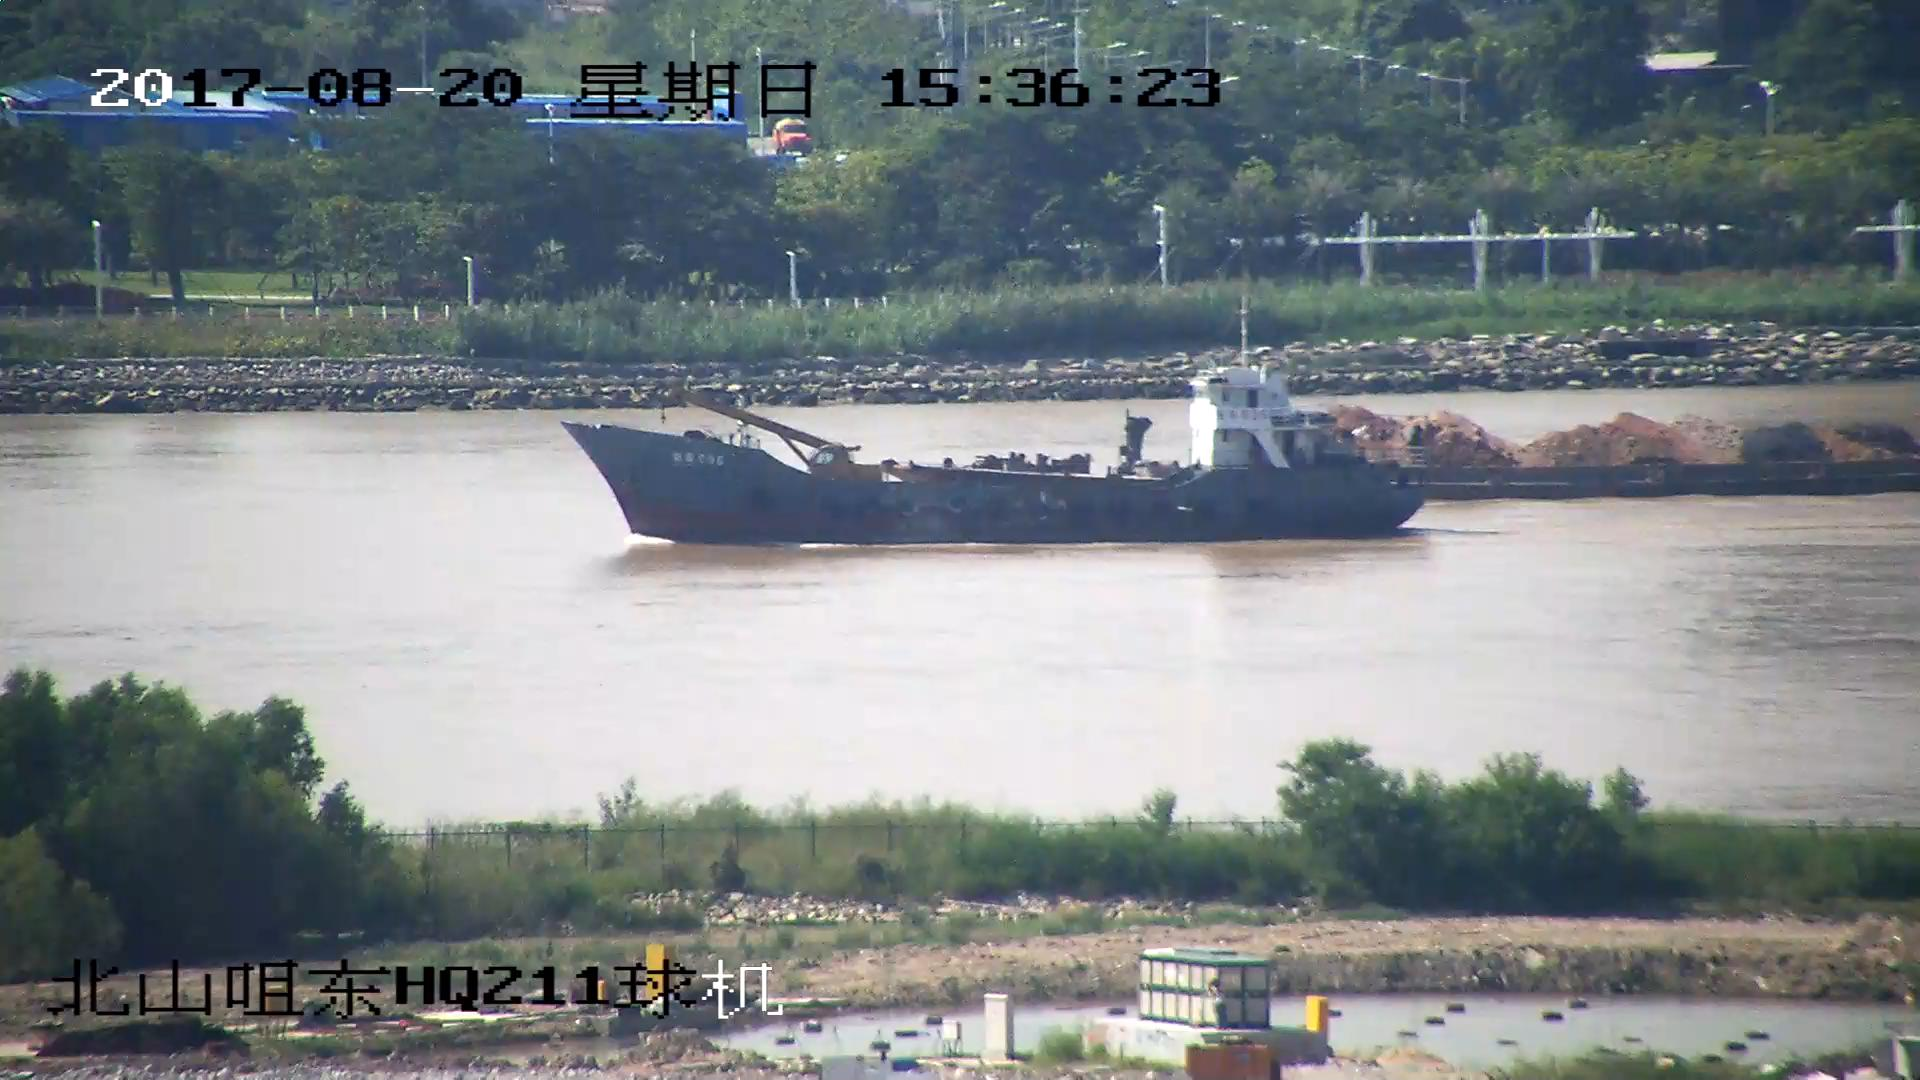general cargo ship: (568, 273, 1421, 550)
ore carrier: (993, 403, 1920, 501)
